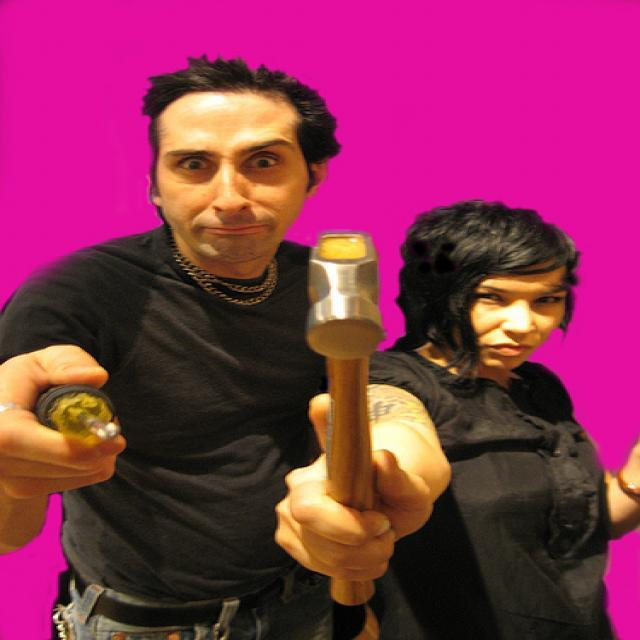hammer: (293, 223, 397, 612)
screwdriver: (26, 380, 137, 456)
